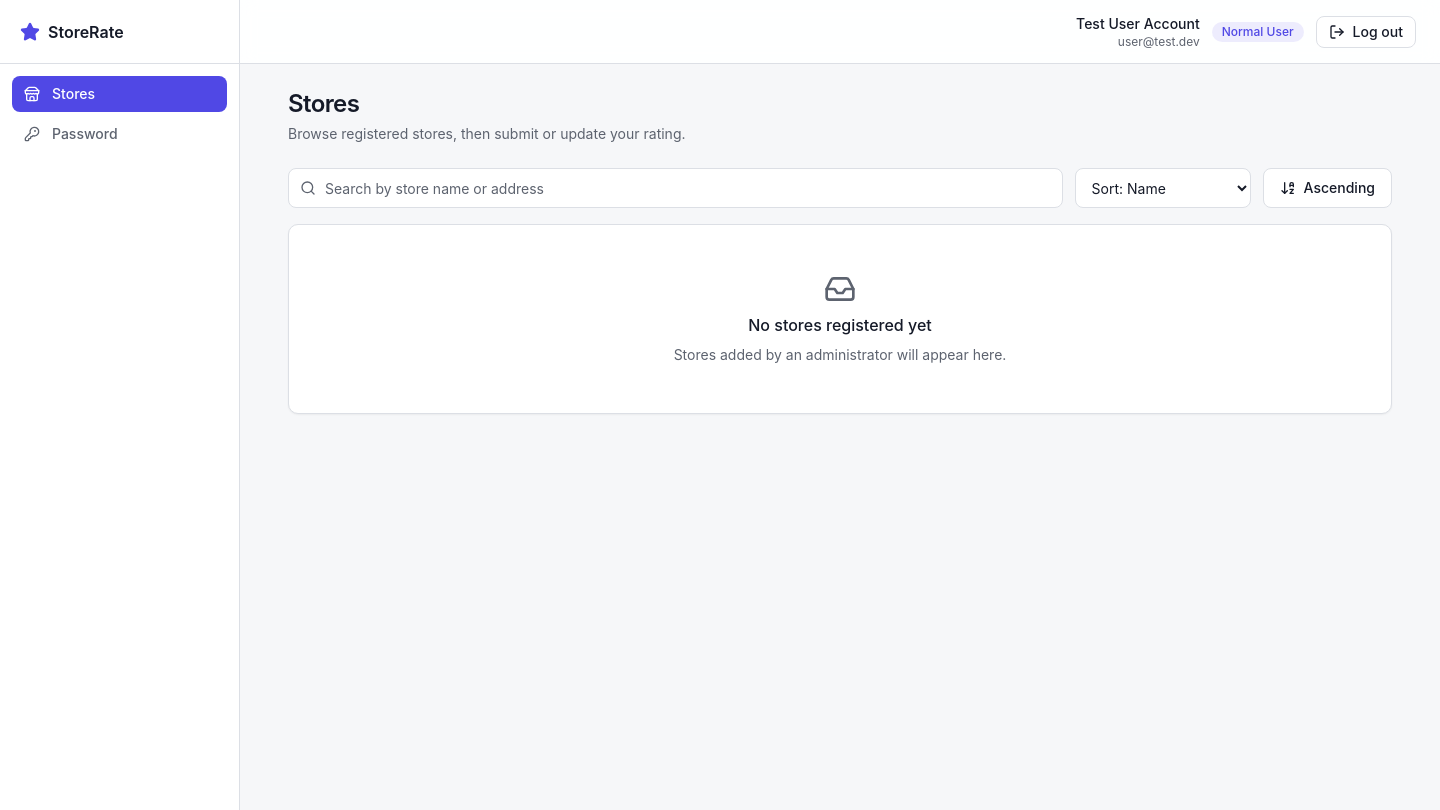
Test case: authentication transitions › hides protected content and redirects immediately while logout is pending
The width and height of the screenshot is (1440, 810).
Expected: the heading "Stores" is shown, [288,89,359,118]
Click the button "Log out" at (1366, 32), box [1316,16,1416,48]
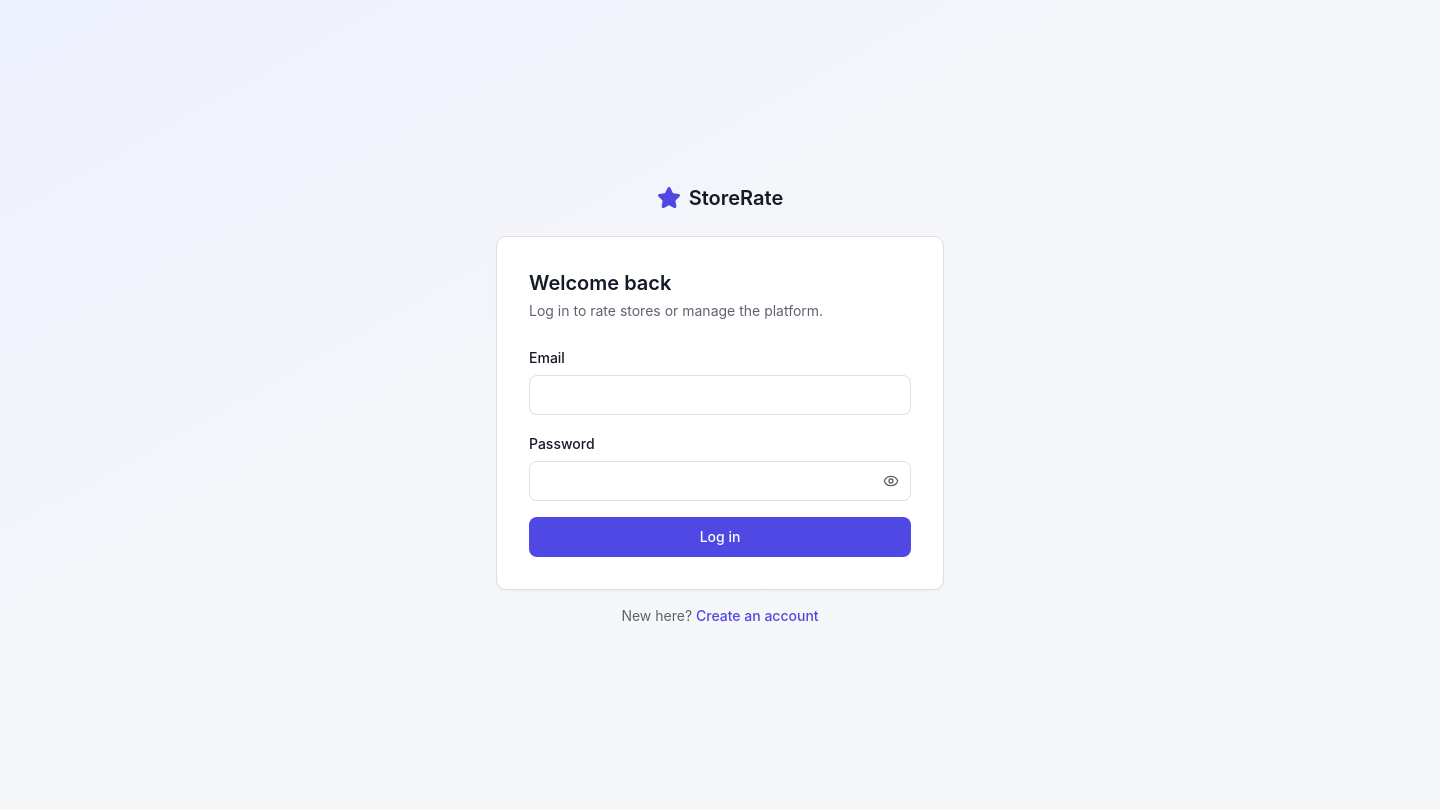
Now the heading "Welcome back" is shown, box [529,271,671,295]
